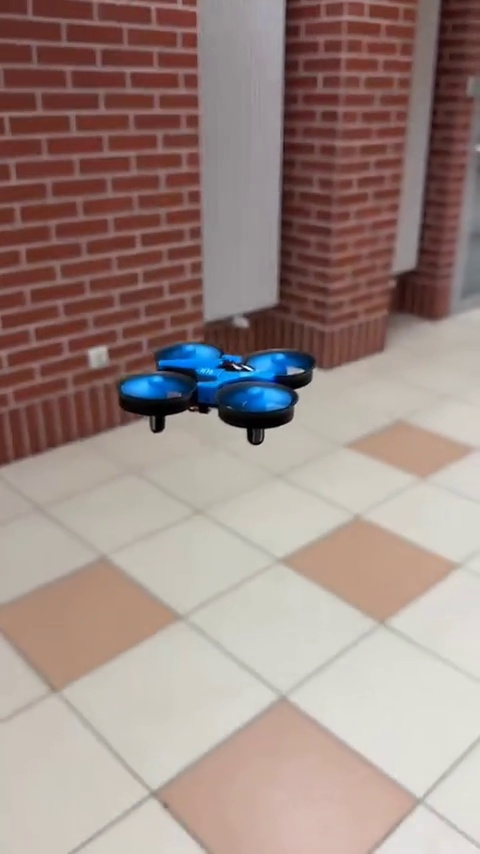drone: (116, 342, 313, 451)
